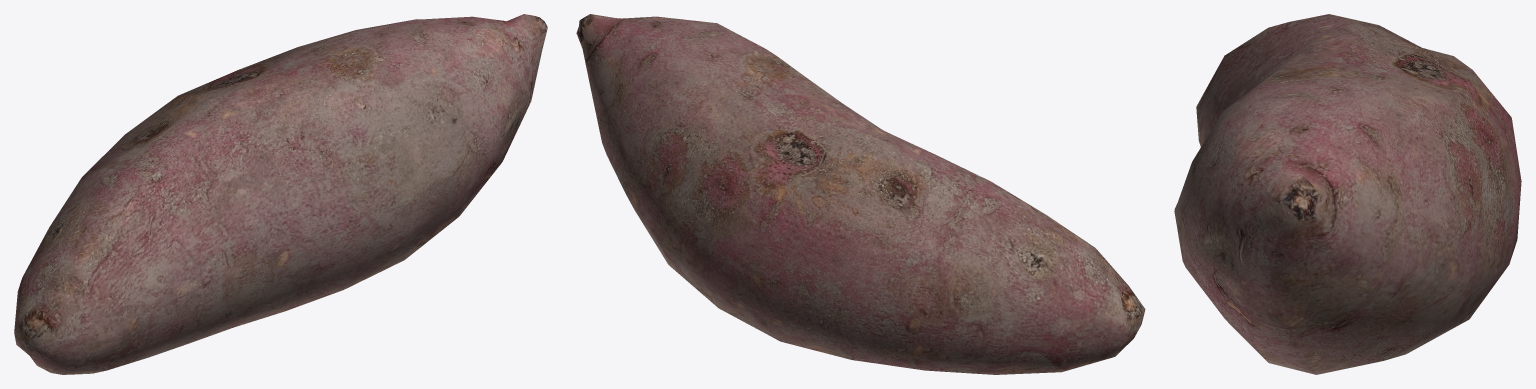
Rendered from A42_Sweet_Potato_low.fbx.
3 renders of one model, left to right at view 1: azimuth 30°, elevation 25°; view 2: azimuth 150°, elevation 25°; view 3: azimuth 270°, elevation 25°, orthographic. The views are drawn at different scales.
Parts seen in each view (by area): view 1: A42_Sweet_Potato_low; view 2: A42_Sweet_Potato_low; view 3: A42_Sweet_Potato_low.
Boxes of the visible parts, left/top/right/bottom form: A42_Sweet_Potato_low: left=14, top=14, right=547, bottom=374; A42_Sweet_Potato_low: left=576, top=14, right=1145, bottom=374; A42_Sweet_Potato_low: left=1174, top=14, right=1521, bottom=374.
Bounding box in the file's own units: 18.24 × 7.64 × 8.37.
1 material, 1 textured.
